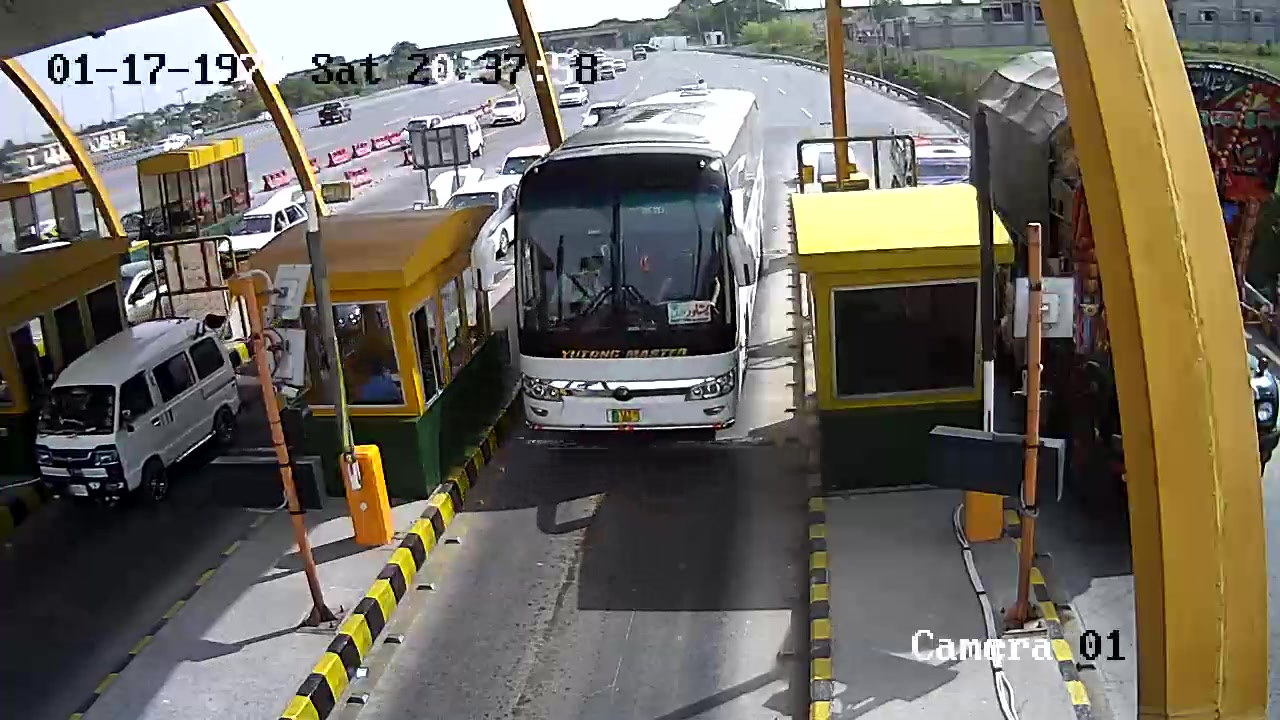F4: (515, 78, 771, 460)
